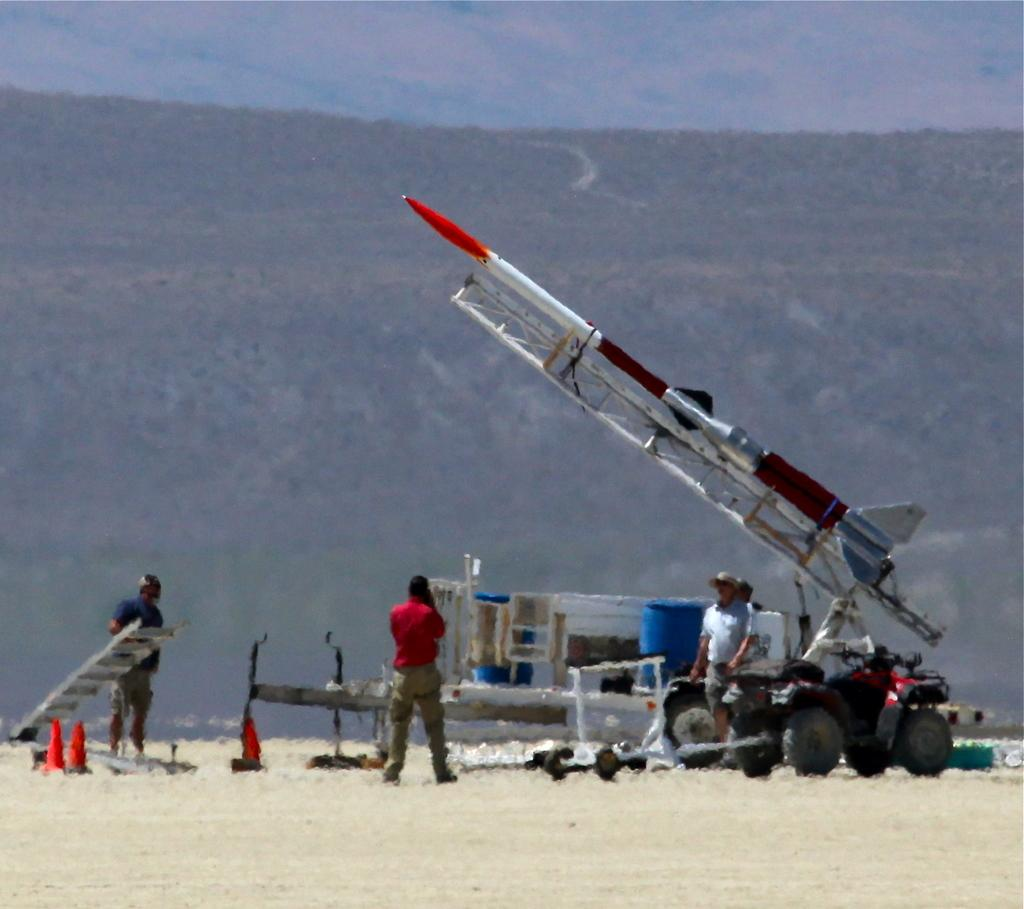Missile: (449, 189, 906, 653)
